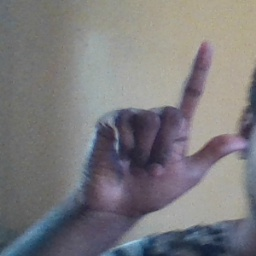L: (89, 38, 252, 211)
